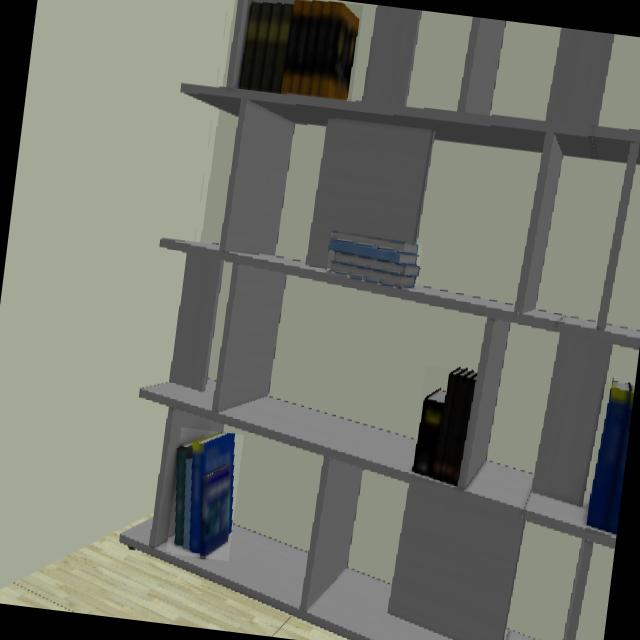book: (237, 2, 360, 100), (174, 433, 236, 557), (412, 369, 476, 486), (586, 383, 634, 537), (328, 233, 419, 284)
